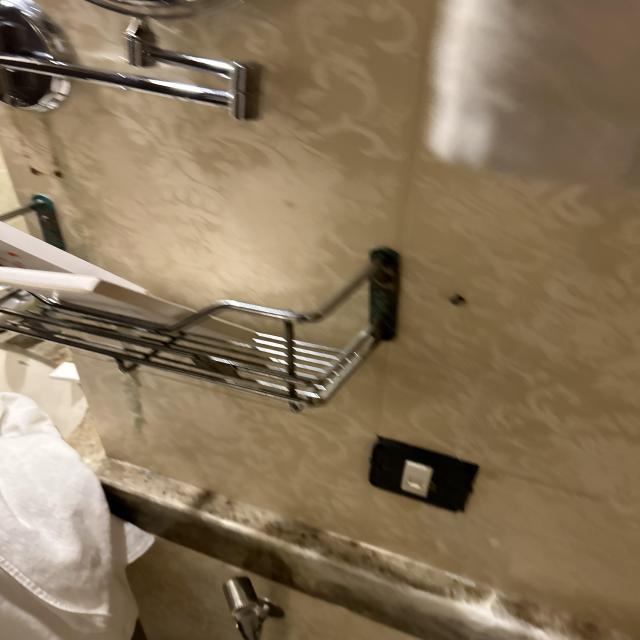mess: (0, 181, 390, 452)
